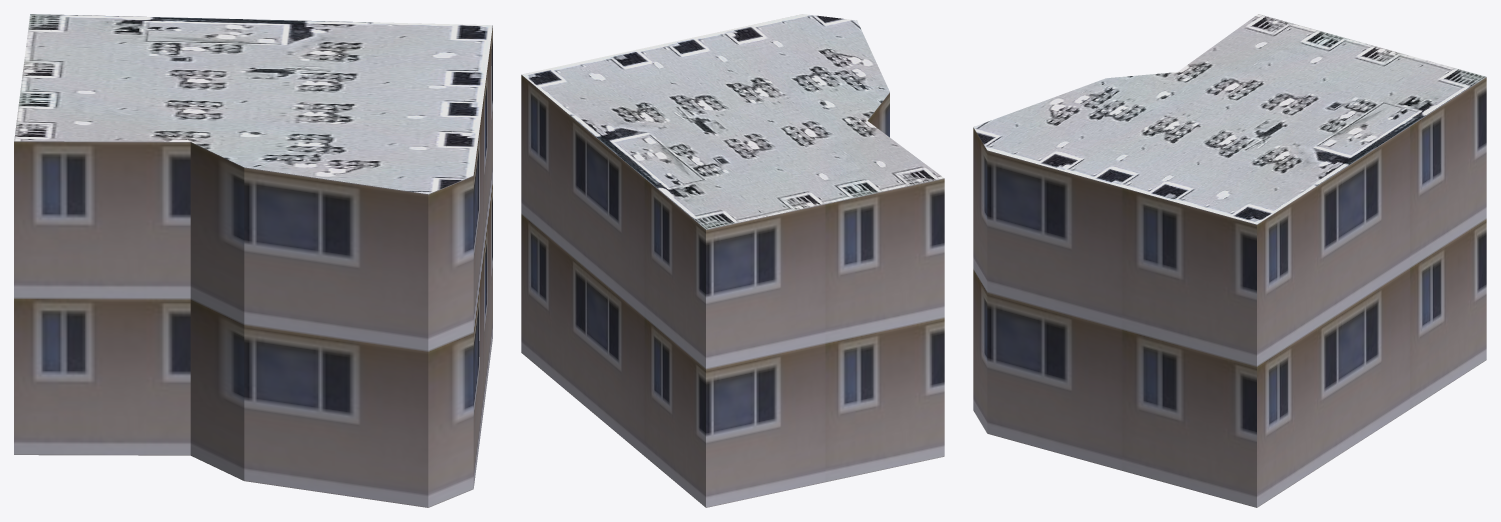
File: ResTex__912.fbx
3 views of the same model, side by side, from view 1: azimuth 30°, elevation 25°; view 2: azimuth 150°, elevation 25°; view 3: azimuth 270°, elevation 25° (orthographic). The views are drawn at different scales.
Parts seen in each view (by area): view 1: CityEngineMaterial_21_m, CityEngineMaterial_4_m; view 2: CityEngineMaterial_21_m, CityEngineMaterial_4_m; view 3: CityEngineMaterial_21_m, CityEngineMaterial_4_m.
Part boxes in pixels (x1,y1,x2,y2): CityEngineMaterial_21_m: (14,25,492,507); CityEngineMaterial_4_m: (14,14,492,194); CityEngineMaterial_21_m: (521,75,944,507); CityEngineMaterial_4_m: (521,14,943,229); CityEngineMaterial_21_m: (973,77,1486,507); CityEngineMaterial_4_m: (973,14,1486,224).
Size of the model in its own units: 9.57 by 6 by 9.85.
Materials: 2 (2 with a texture image).
